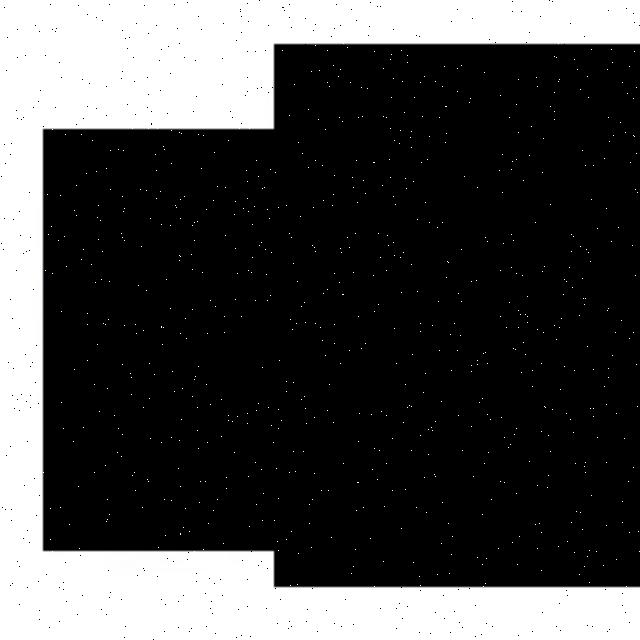Capsicum: (274, 44, 640, 587), (44, 129, 407, 551)
